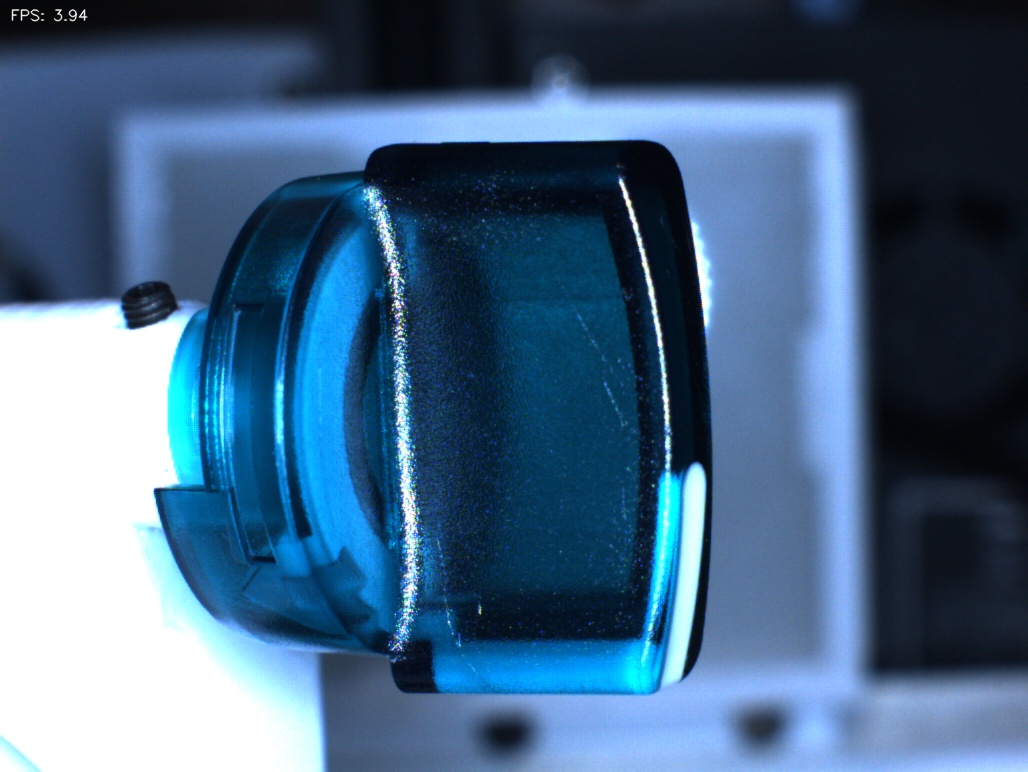Givrage: (559, 290, 652, 427)
